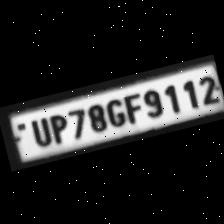1: (158, 78, 184, 116), (174, 75, 200, 112)
2: (192, 70, 222, 107)
7: (61, 102, 88, 140)
8: (82, 98, 109, 134)
9: (138, 84, 167, 120)
F: (118, 88, 144, 124)
G: (100, 92, 127, 128)
P: (44, 109, 72, 145)
U: (23, 112, 54, 149)
